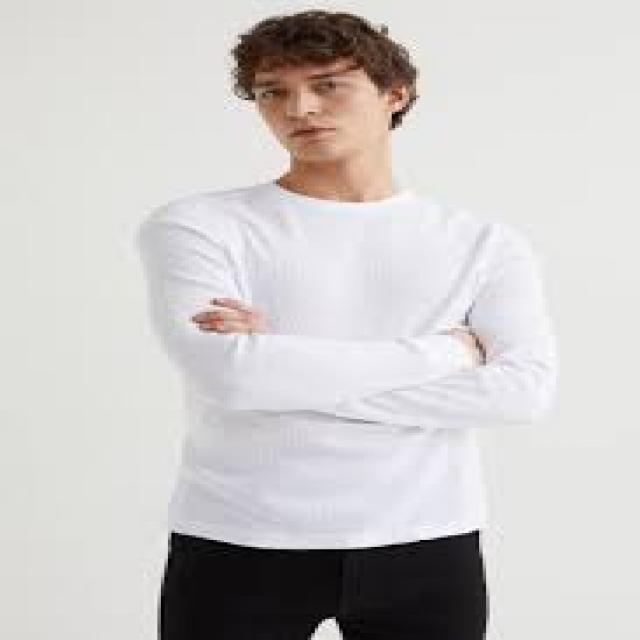plain: (131, 178, 557, 547)
